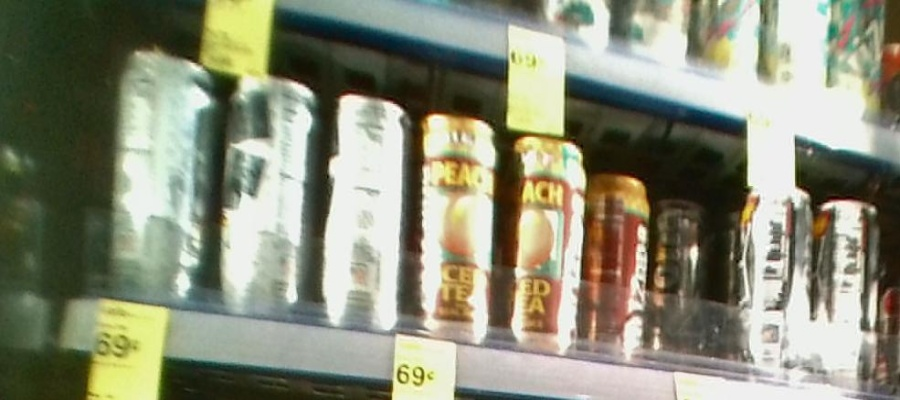bottle: (106, 32, 217, 310), (222, 31, 316, 322), (324, 77, 413, 334), (415, 95, 499, 343), (507, 121, 585, 357), (734, 169, 814, 383), (588, 141, 656, 363), (817, 183, 884, 388), (655, 173, 711, 367)
